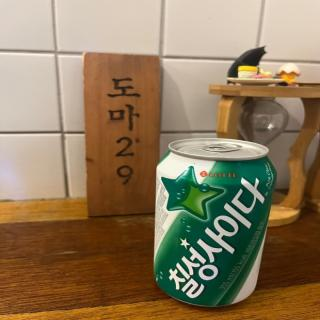chilsung: (152, 136, 276, 306)
